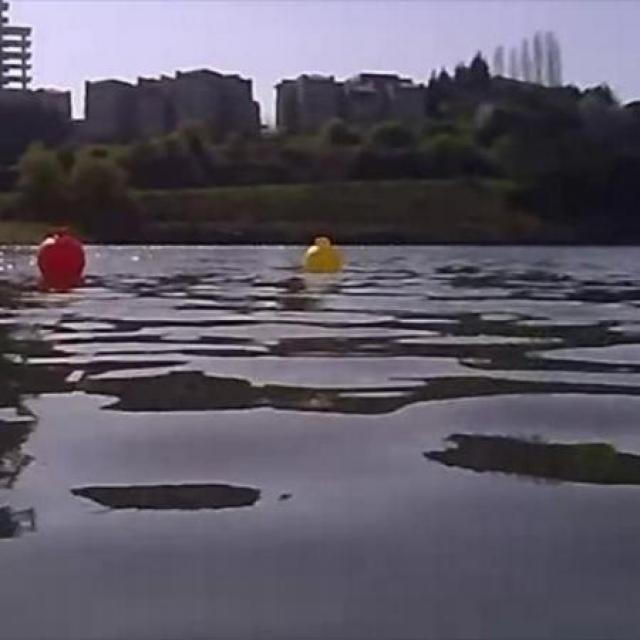buoy: (38, 230, 86, 280), (305, 236, 341, 275)
